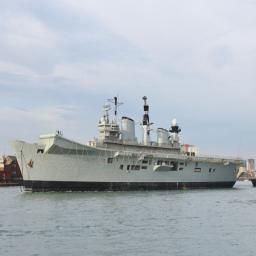Portanaves: (10, 89, 245, 191)
